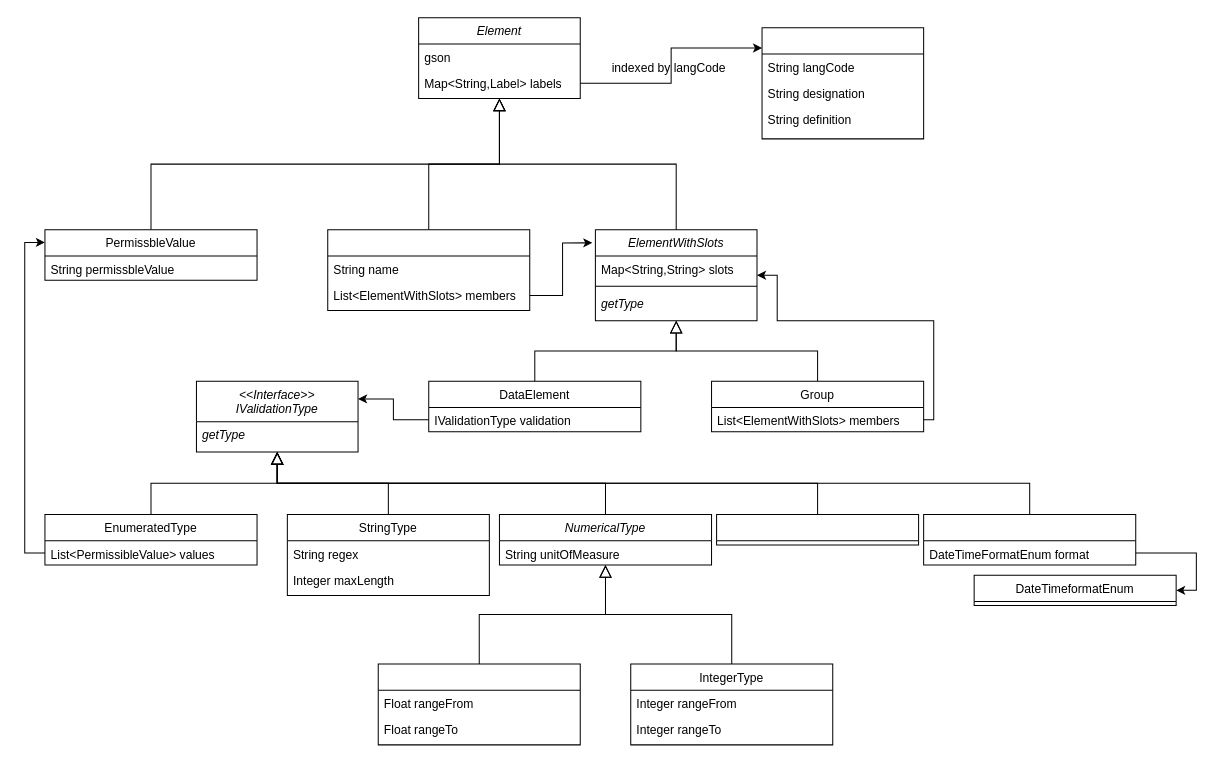
Image size: 1222x764. Some labels were removed from this diagram. Each missing label, with the box of its shape:
BooleanType: (716, 514, 919, 545)
CalendarType: (923, 514, 1136, 565)
FloatType: (377, 663, 580, 745)
Label: (761, 27, 924, 139)
Namespace: (327, 229, 530, 311)
